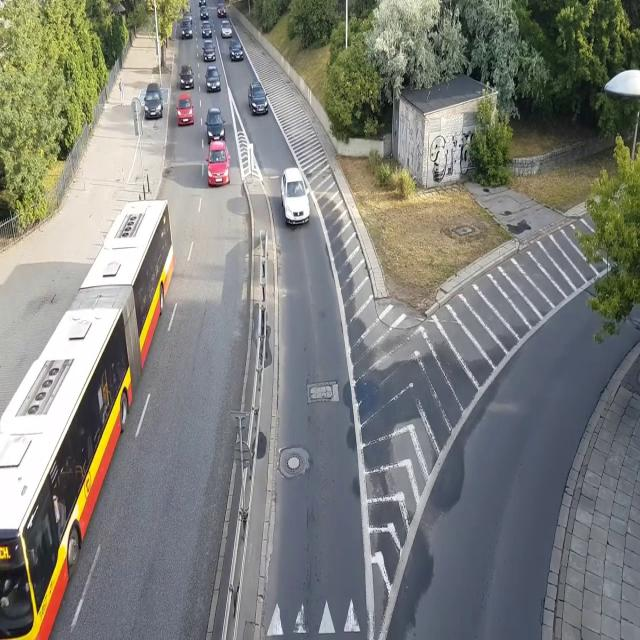bus: (0, 199, 176, 640)
car: (279, 165, 312, 232), (204, 140, 231, 188), (204, 107, 226, 143), (247, 81, 269, 116), (143, 83, 163, 119), (177, 92, 194, 127), (204, 65, 221, 94), (178, 64, 194, 89), (228, 38, 244, 63), (202, 40, 216, 64), (180, 20, 193, 40), (201, 21, 213, 38), (221, 21, 232, 37), (216, 4, 226, 20), (198, 7, 208, 19), (182, 10, 192, 22), (199, 0, 207, 6)
